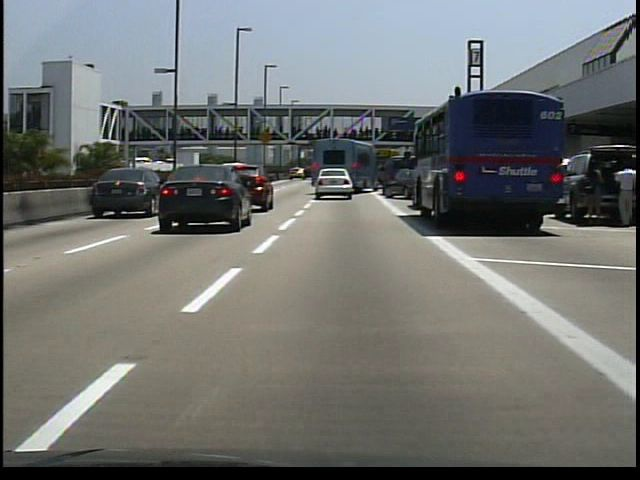person: (576, 156, 605, 225), (608, 159, 635, 227)
